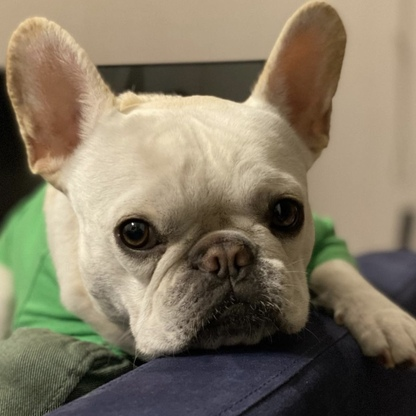bulldog: (9, 11, 394, 355)
